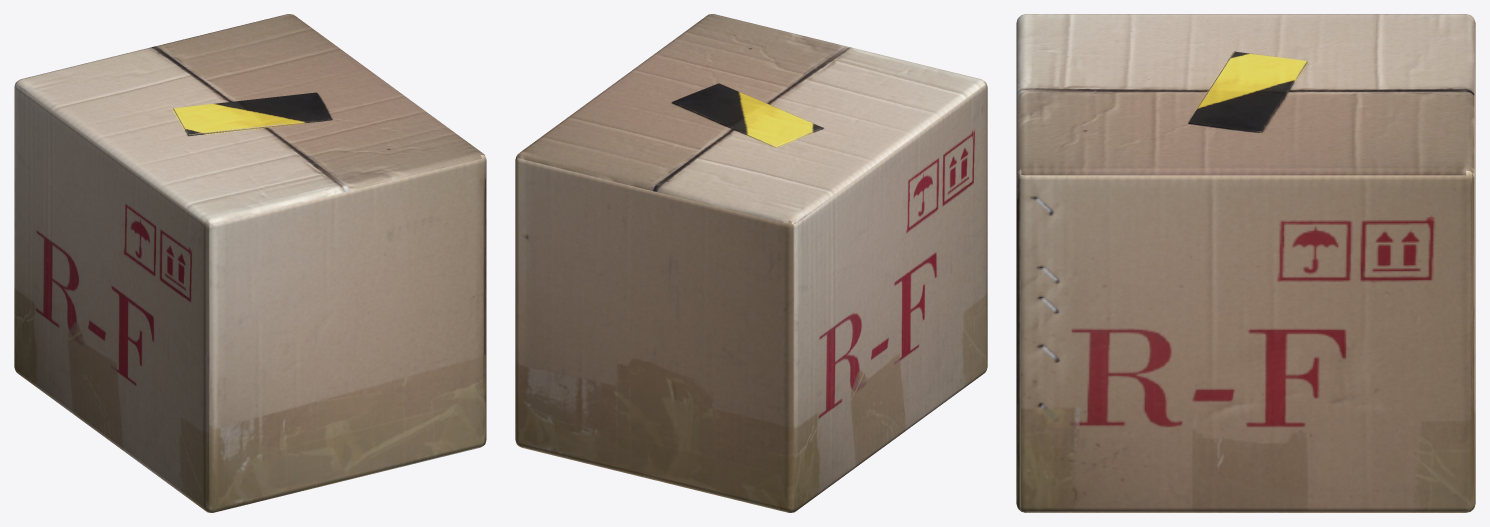
Rendered from miscellaneous.glb.
3 renders of one model, left to right at view 1: azimuth 30°, elevation 25°; view 2: azimuth 150°, elevation 25°; view 3: azimuth 270°, elevation 25°, orthographic. The views are drawn at different scales.
Visible parts, largest first — view 1: Cube.001; view 2: Cube.001; view 3: Cube.001.
Part boxes in pixels (left/top/right/bottom): Cube.001: left=14, top=14, right=486, bottom=512; Cube.001: left=515, top=14, right=987, bottom=512; Cube.001: left=1016, top=14, right=1475, bottom=512.
Bounding box in the file's own units: 0.24 × 0.241 × 0.29.
2 materials, 2 textured.
